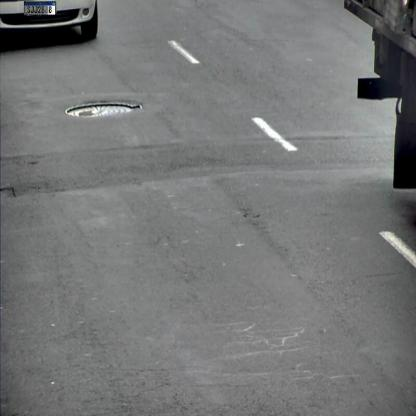PlacaM: (24, 2, 56, 16)
